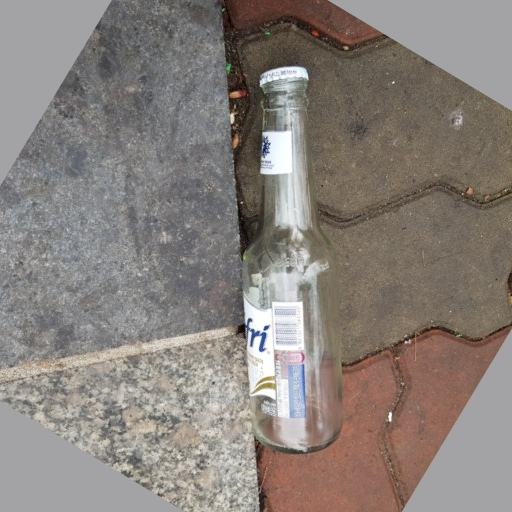Glass_1: (236, 59, 345, 451)
